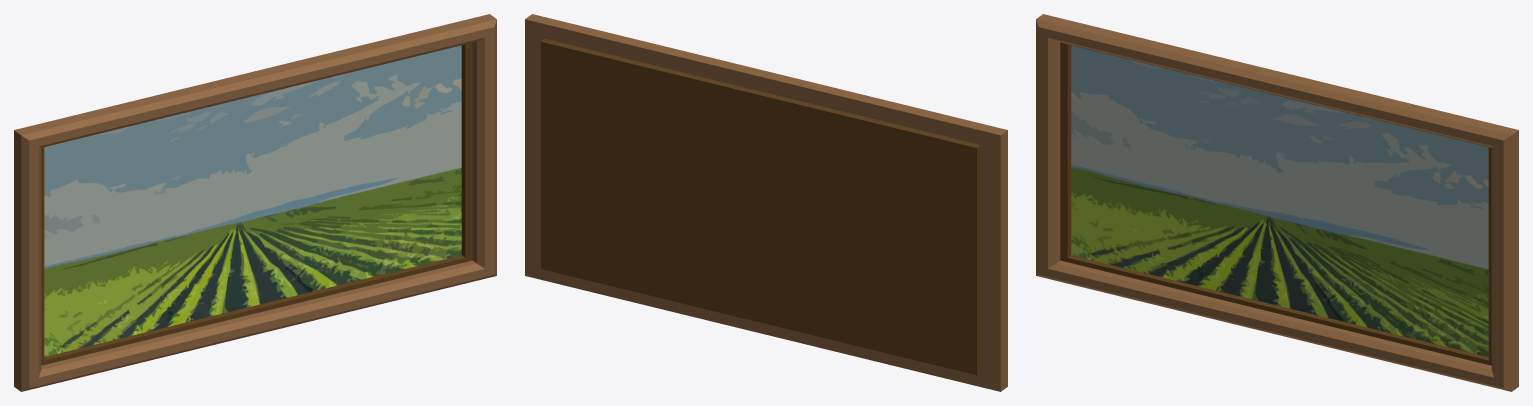
The model's file is painting_3.glb.
The picture shows the model from 3 angles, left to right: view 1: azimuth 30°, elevation 25°; view 2: azimuth 150°, elevation 25°; view 3: azimuth 330°, elevation 25°; orthographic projection.
Visible parts, largest first — view 1: Painting 3; view 2: Painting 3; view 3: Painting 3.
Part boxes in pixels (box(x1,y1,x2,y2)): Painting 3: box(14, 14, 496, 391); Painting 3: box(525, 14, 1007, 391); Painting 3: box(1036, 14, 1518, 391).
Bounding box in the file's own units: 0.9213 × 0.4749 × 0.0469.
Materials: 2 (2 with a texture image).
